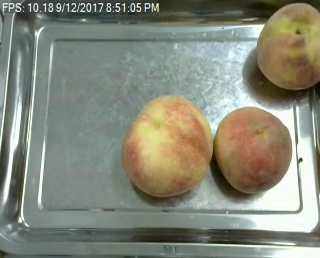Peach: (121, 94, 211, 197), (213, 106, 292, 193), (255, 1, 320, 90)
